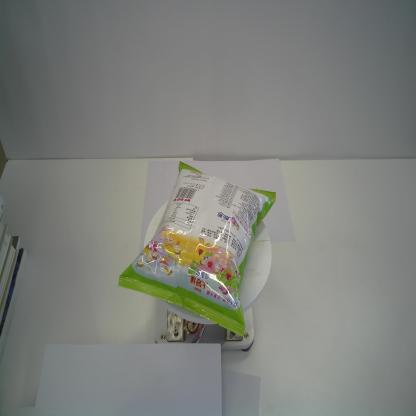Puffed Food: (117, 160, 277, 336)
